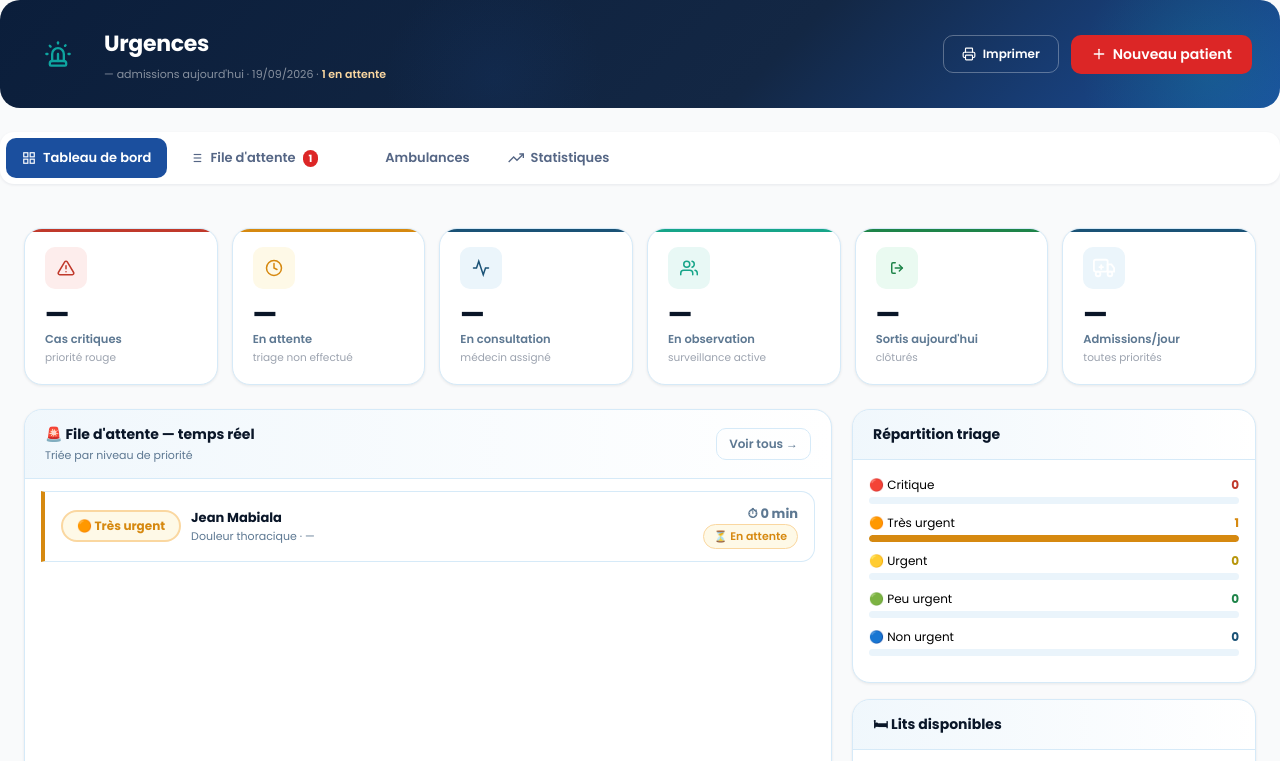
URG-02 — la courbe de température fabriquée a été remplacée par un état honnête, jamais une valeur inventée
The width and height of the screenshot is (1280, 761).
Step 1. Click the text "Jean Mabiala" → (428, 526), box [41,490,815,562]
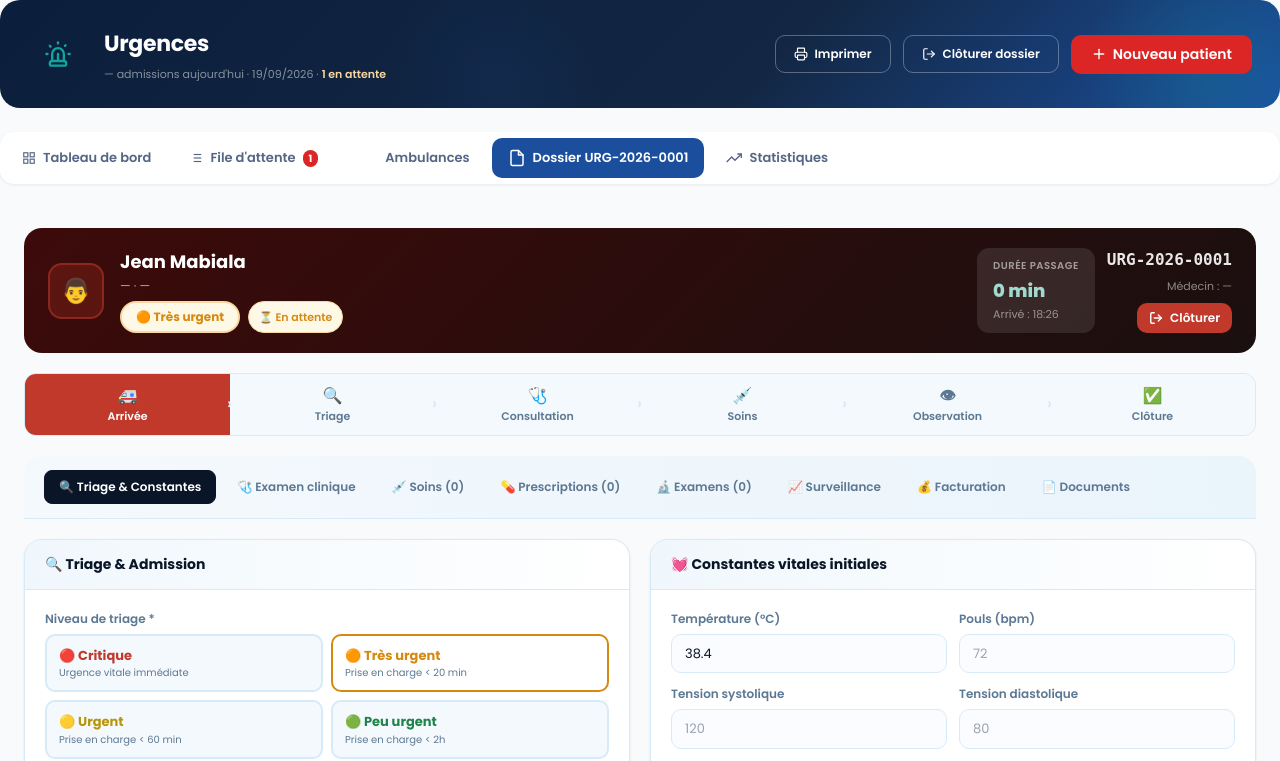
Step 2. Click the button "📈 Surveillance" → (834, 486), box [773,470,896,504]
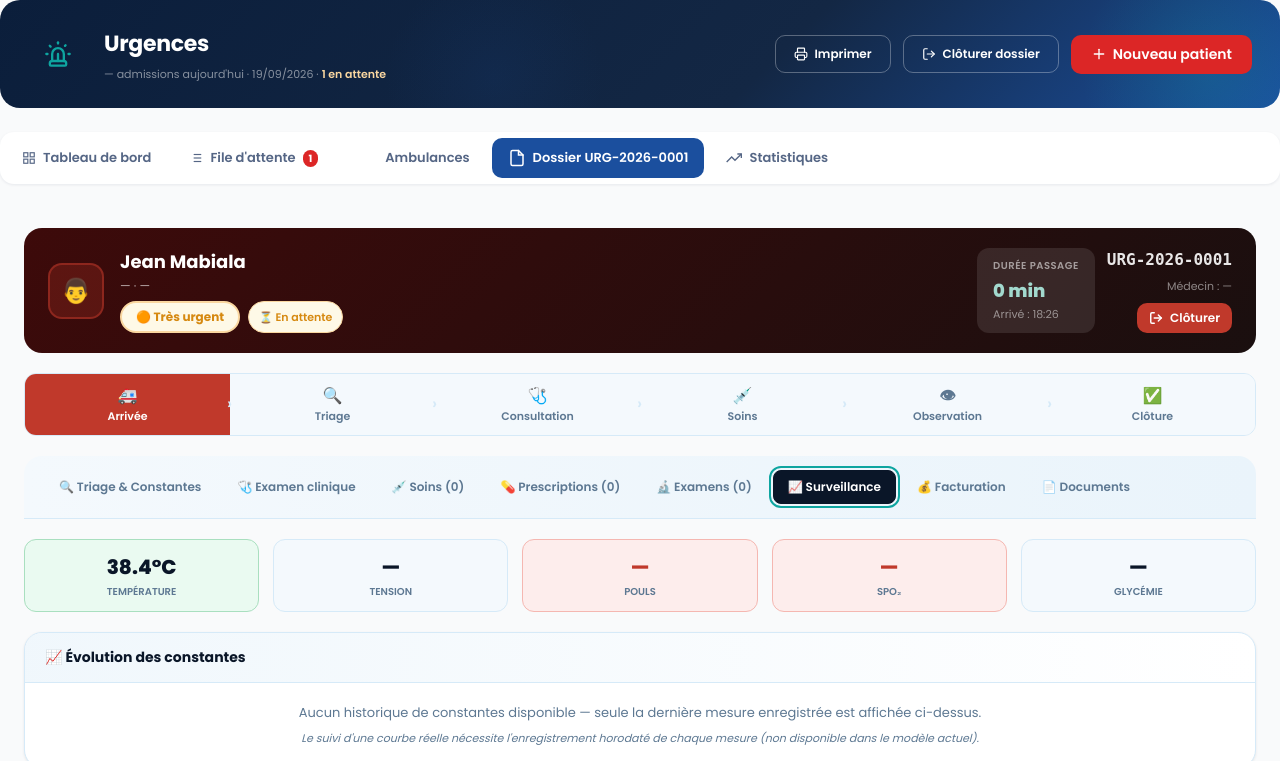
Expected: the text "38.4°C" is shown, [107,552,177,580]
Expected: the text "Aucun historique de constantes disponible" is shown, [299,702,981,722]
